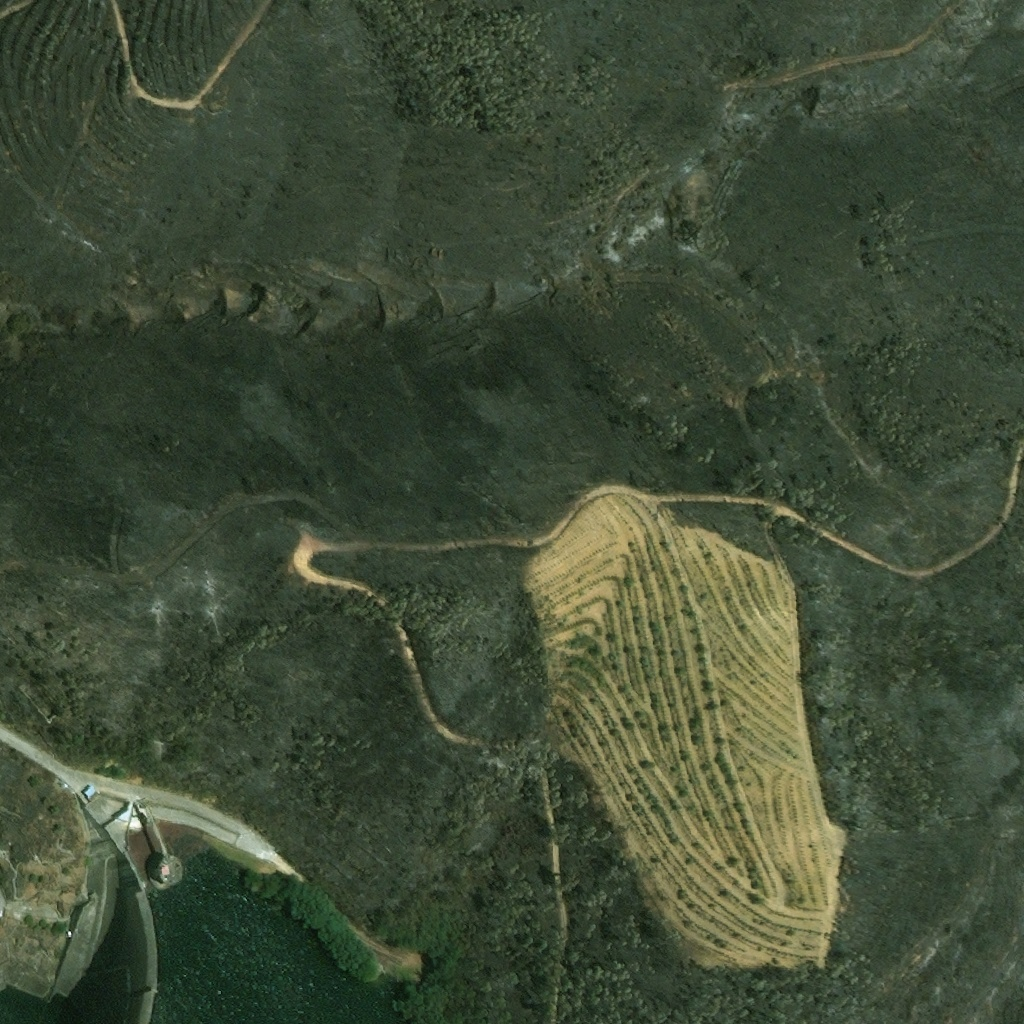0 no-damage: (80, 782, 98, 799), (161, 864, 170, 876)
4 un-classified: (253, 831, 276, 844), (110, 803, 127, 820), (135, 802, 146, 817), (111, 788, 121, 797), (98, 785, 109, 793), (132, 822, 141, 831), (291, 562, 296, 572), (65, 933, 69, 940), (217, 834, 223, 838)
